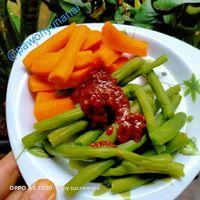buah_sayur_lainnya: (98, 144, 157, 175)
buah_sayur_vitA: (49, 36, 104, 67), (88, 85, 113, 106)
